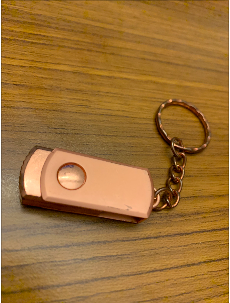object_name: (18, 94, 212, 224)
